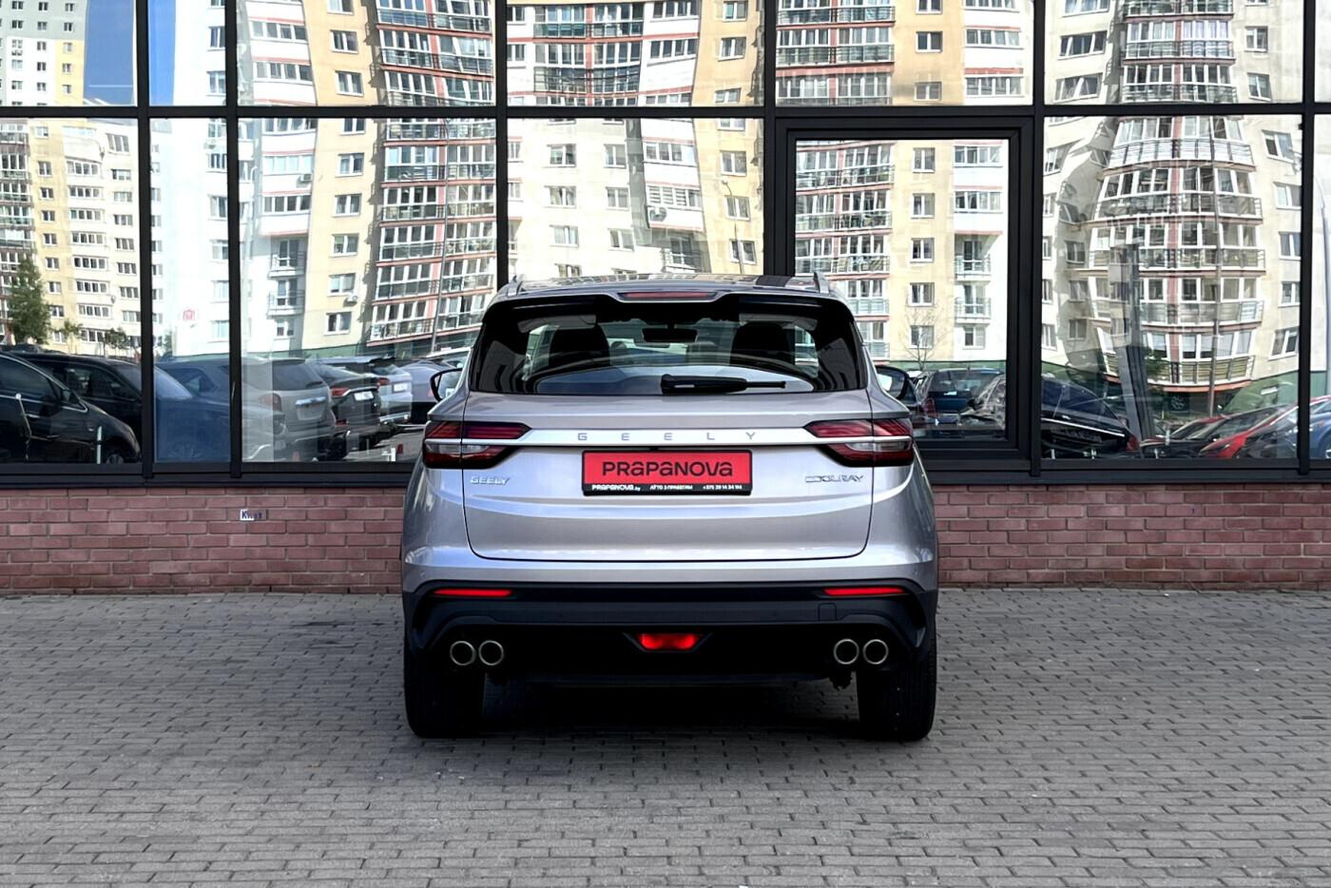Coolray_2019-2023: (404, 272, 948, 759)
